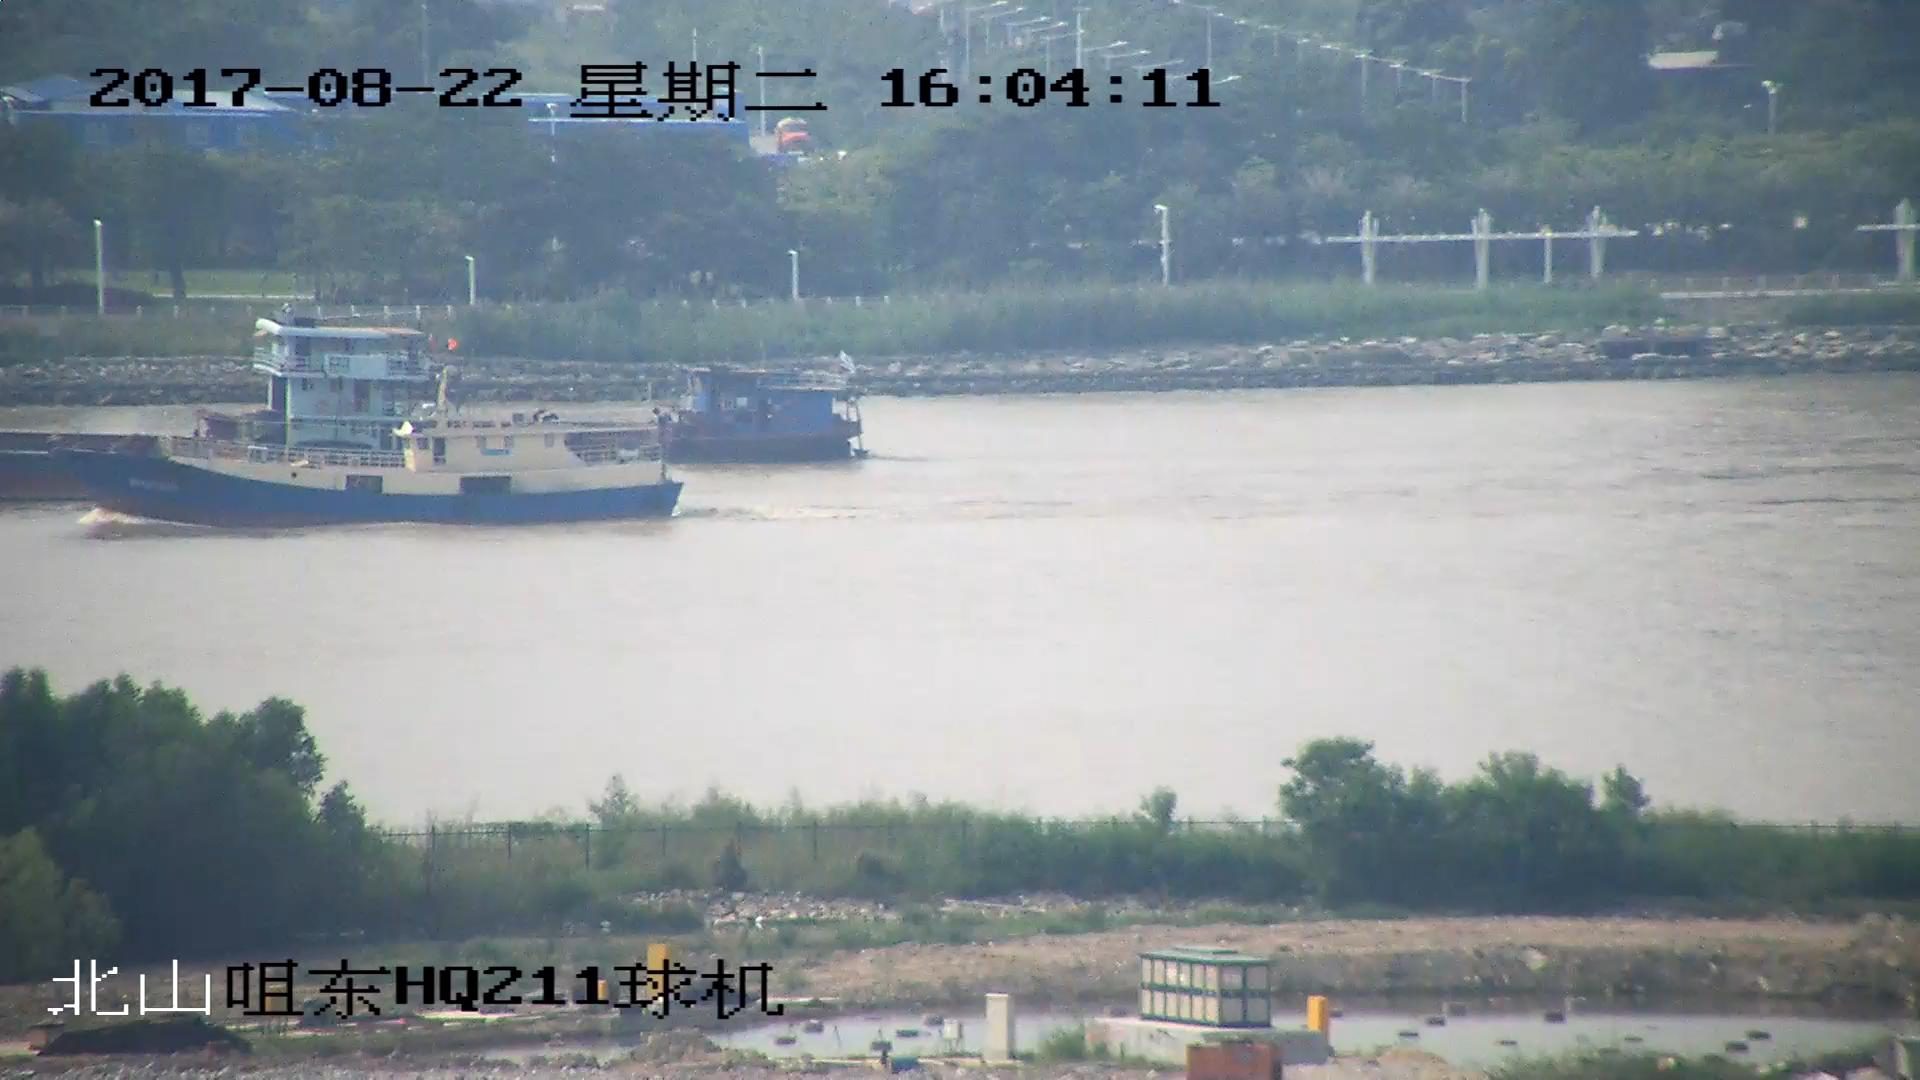bulk cargo carrier: (1, 315, 442, 501), (182, 363, 876, 471)
fishing boat: (50, 342, 689, 533)
